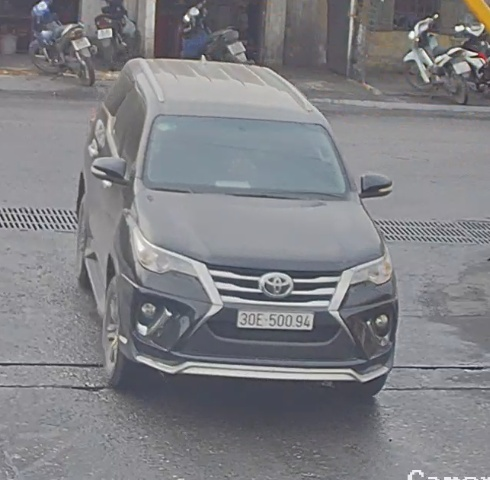vehicle plate: (232, 304, 318, 331)
